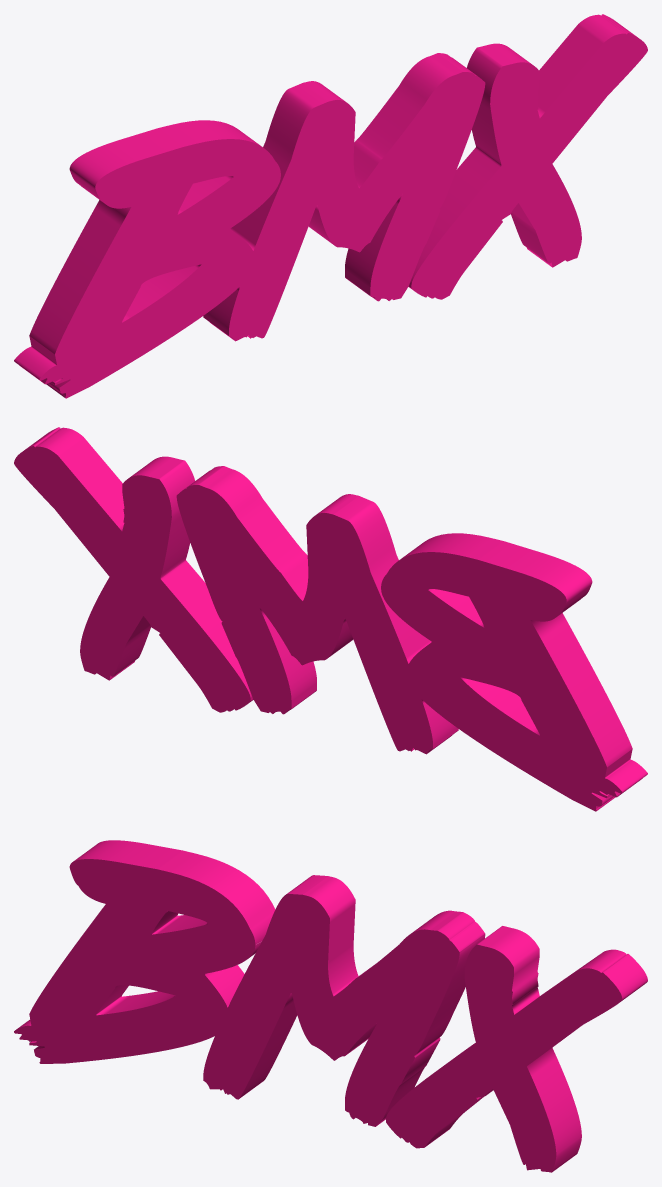
The model's file is BMX.gltf.
3 views of the same model, one above another, from view 1: azimuth 30°, elevation 25°; view 2: azimuth 150°, elevation 25°; view 3: azimuth 330°, elevation 25° (orthographic).
Parts seen in each view (by area): view 1: Curve, Curve.001; view 2: Curve, Curve.001; view 3: Curve, Curve.001.
Part boxes in pixels (x1,y1,x2,y2): Curve: (14,53,485,398); Curve.001: (408,14,647,299); Curve: (176,466,647,811); Curve.001: (14,427,253,712); Curve: (14,840,485,1126); Curve.001: (386,926,647,1172).
Bounding box in the file's own units: 0.2743 × 0.1004 × 0.02.
